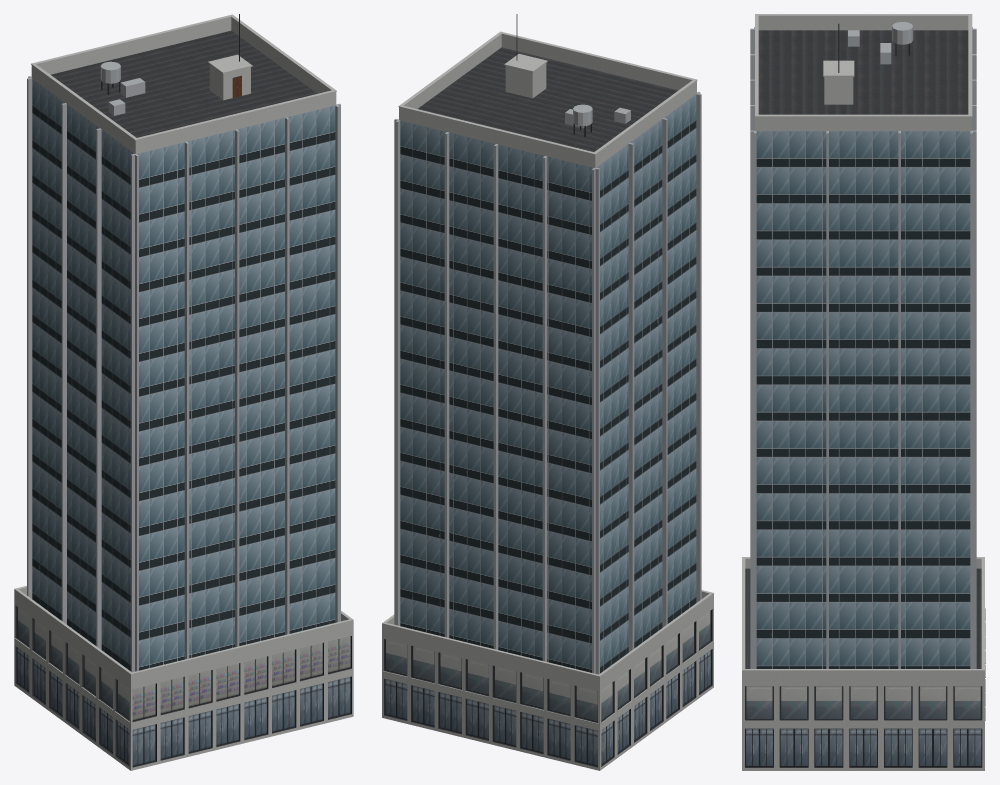
The model's file is edificio_02_torre_oficinas.glb.
3 renders of one model, left to right at view 1: azimuth 30°, elevation 25°; view 2: azimuth 150°, elevation 25°; view 3: azimuth 270°, elevation 25°, orthographic. The views are drawn at different scales.
Parts seen in each view (by area): view 1: EB02_torre_oficinas; view 2: EB02_torre_oficinas; view 3: EB02_torre_oficinas.
Boxes of the visible parts, x1=… form: EB02_torre_oficinas: x1=14, y1=14, x2=353, y2=770; EB02_torre_oficinas: x1=382, y1=14, x2=713, y2=770; EB02_torre_oficinas: x1=742, y1=14, x2=985, y2=770.
Size of the model in its own units: 24.25 by 70.8 by 21.94.
Materials: 7 (5 with a texture image).
